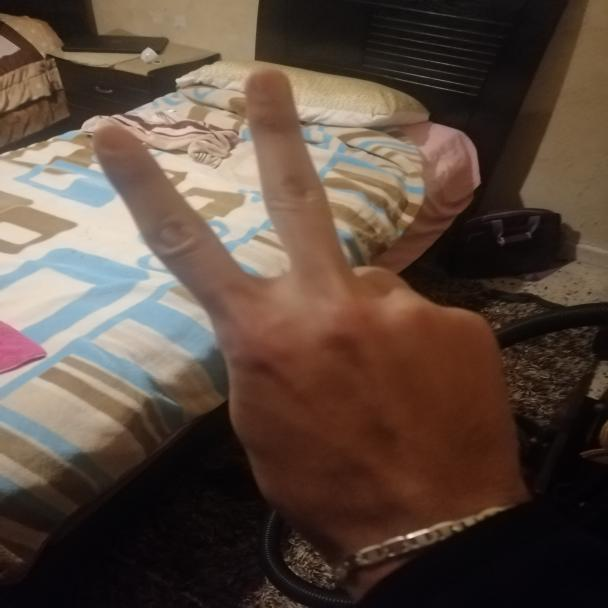two: (93, 56, 492, 515)
